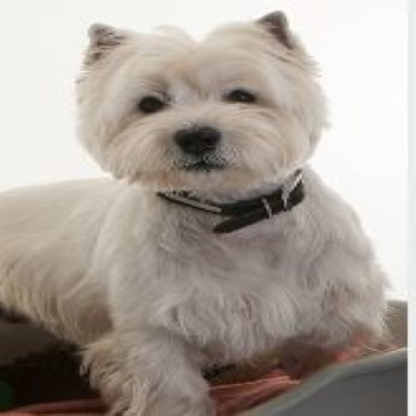maltese: (4, 9, 397, 416)
